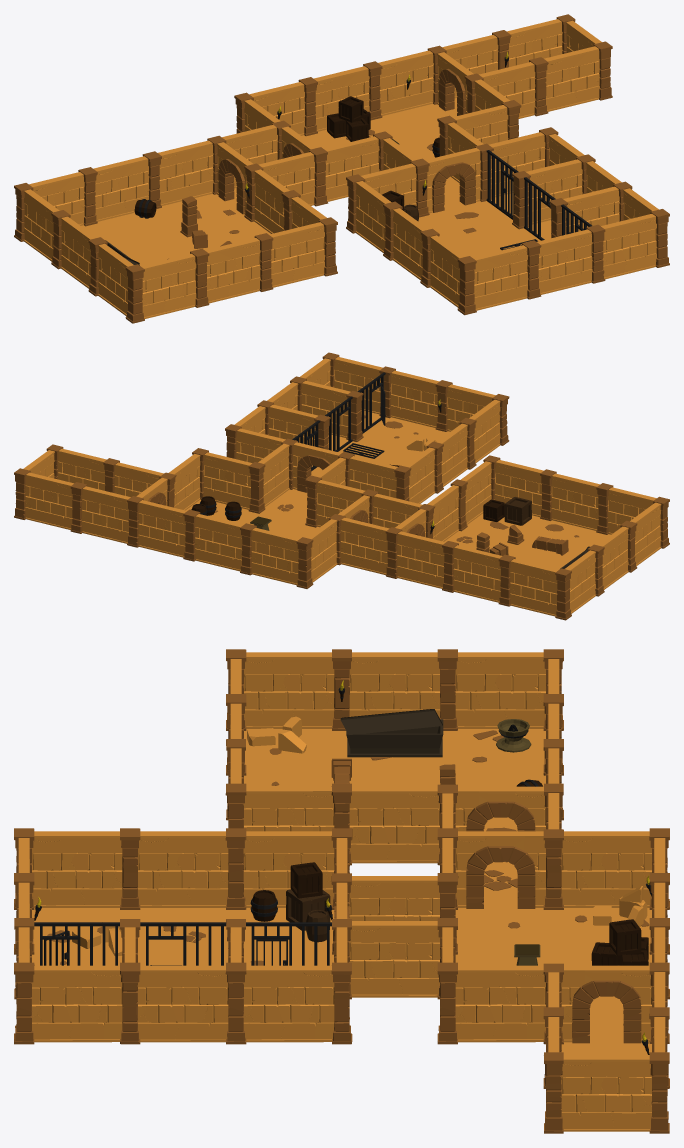
File: ModularDungeonSandBiome_ExampleScene.obj
3 renders of one model, top to bottom at view 1: azimuth 30°, elevation 25°; view 2: azimuth 150°, elevation 25°; view 3: azimuth 270°, elevation 25°, orthographic. The views are drawn at different scales.
Visible parts, largest first — view 1: Pillar1Wall1.006, Pillar1Wall1.017, Pillar1Wall1.002, Pillar1Wall1.013, Pillar2Wall1.006, Pillar2Wall1.007, Pillar2Wall1.001, Pillar1Wall1.014, Pillar2Wall1.008, Pillar2Wall1.005, Pillar2Door.001, Pillar1Wall1.010 (+47 smaller); view 2: Pillar3Wall1.001, Pillar1Wall1.019, Pillar2Wall1.008, Pillar1Wall1.013, Pillar1Wall1.011, Pillar2Wall1.002, Pillar2Wall1.005, Pillar1Wall1.014, Pillar1Wall1.012, Pillar3Wall1.006, Pillar1Wall1.002, Pillar2Wall1.007 (+46 smaller); view 3: Pillar1Wall1.007, Pillar3Wall1.002, Pillar1Wall1.003, Pillar1Wall1.020, Pillar1Wall1.004, Pillar3Wall1.003, Pillar3Wall1.009, Pillar3Wall1.008, Pillar1Wall1.016, Wall1.001, Pillar1Wall1.008, Pillar1Wall1.015 (+55 smaller).
Part boxes in pixels (left/top/right/bottom): Pillar1Wall1.006: left=457, top=245, right=528, bottom=315; Pillar1Wall1.017: left=125, top=253, right=196, bottom=323; Pillar1Wall1.002: left=522, top=229, right=592, bottom=299; Pillar1Wall1.013: left=190, top=238, right=260, bottom=307; Pillar2Wall1.006: left=544, top=41, right=612, bottom=111; Pillar2Wall1.007: left=254, top=222, right=325, bottom=291; Pillar2Wall1.001: left=586, top=214, right=657, bottom=283; Pillar1Wall1.014: left=93, top=151, right=161, bottom=221; Pillar2Wall1.008: left=158, top=135, right=226, bottom=205; Pillar2Wall1.005: left=378, top=45, right=446, bottom=115; Pillar2Door.001: left=425, top=143, right=493, bottom=213; Pillar1Wall1.010: left=309, top=136, right=379, bottom=206; Pillar3Wall1.001: left=203, top=452, right=265, bottom=513; Pillar1Wall1.019: left=498, top=554, right=558, bottom=616; Pillar2Wall1.008: left=385, top=527, right=445, bottom=588; Pillar1Wall1.013: left=551, top=473, right=613, bottom=534; Pillar1Wall1.011: left=183, top=509, right=243, bottom=571; Pillar2Wall1.002: left=14, top=468, right=73, bottom=529; Pillar2Wall1.005: left=127, top=496, right=186, bottom=557; Pillar1Wall1.014: left=442, top=541, right=502, bottom=602; Pillar1Wall1.012: left=240, top=523, right=299, bottom=585; Pillar3Wall1.006: left=70, top=482, right=130, bottom=543; Pillar1Wall1.002: left=390, top=370, right=452, bottom=431; Pillar2Wall1.007: left=494, top=459, right=556, bottom=520; Pillar1Wall1.007: left=14, top=962, right=122, bottom=1044; Pillar3Wall1.002: left=120, top=962, right=228, bottom=1044; Pillar1Wall1.003: left=225, top=962, right=334, bottom=1044; Pillar1Wall1.020: left=437, top=962, right=545, bottom=1044; Pillar1Wall1.004: left=138, top=828, right=246, bottom=909; Pillar3Wall1.003: left=32, top=828, right=140, bottom=909; Pillar3Wall1.009: left=243, top=649, right=351, bottom=730; Pillar3Wall1.008: left=331, top=783, right=439, bottom=865; Pillar1Wall1.016: left=455, top=649, right=563, bottom=730; Wall1.001: left=561, top=1055, right=651, bottom=1131; Pillar1Wall1.008: left=561, top=828, right=669, bottom=909; Pillar1Wall1.015: left=349, top=649, right=457, bottom=730.
Size of the model in its own units: 36.77 by 3.15 by 24.78.
